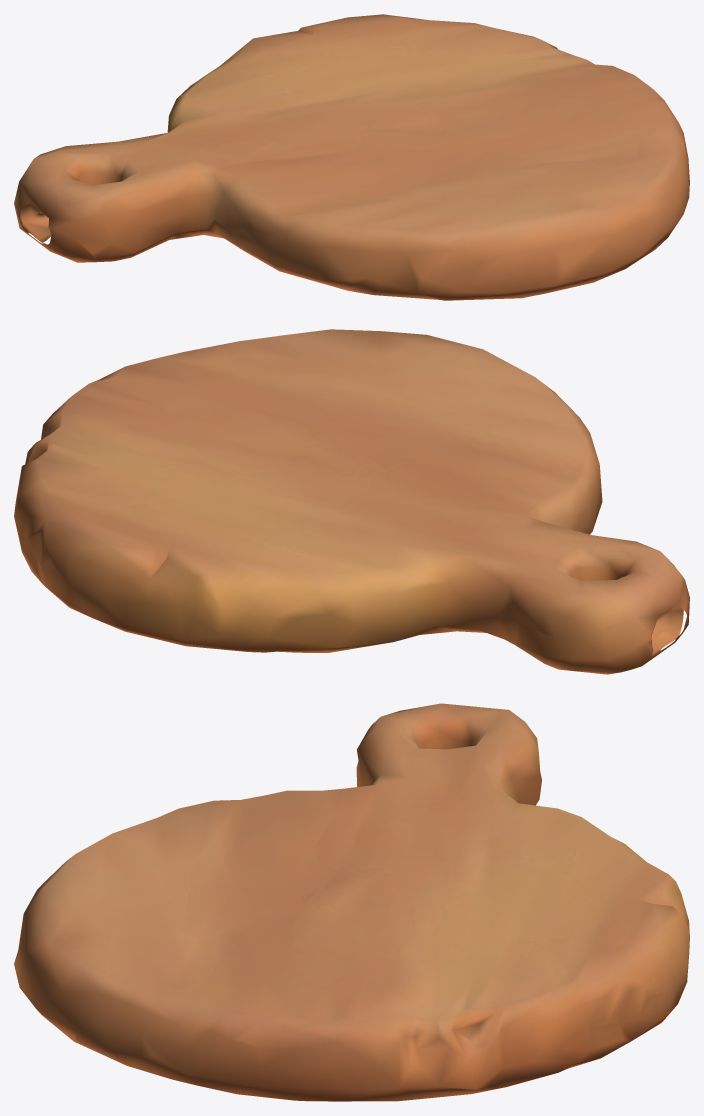
The model's file is cutting_board.glb.
3 views of the same model, one above another, from view 1: azimuth 30°, elevation 25°; view 2: azimuth 150°, elevation 25°; view 3: azimuth 270°, elevation 25° (orthographic). The views are drawn at different scales.
Visible parts, largest first — view 1: tripo_node_d6471da2-b7bd-44a4-92fa-e1168dd506bc; view 2: tripo_node_d6471da2-b7bd-44a4-92fa-e1168dd506bc; view 3: tripo_node_d6471da2-b7bd-44a4-92fa-e1168dd506bc.
Part boxes in pixels (<box>): tripo_node_d6471da2-b7bd-44a4-92fa-e1168dd506bc: <box>14,14,689,300</box>; tripo_node_d6471da2-b7bd-44a4-92fa-e1168dd506bc: <box>14,329,689,674</box>; tripo_node_d6471da2-b7bd-44a4-92fa-e1168dd506bc: <box>14,703,689,1101</box>.
Bounding box in the file's own units: 1 × 0.1171 × 0.8535.
Materials: 1 (1 with a texture image).
